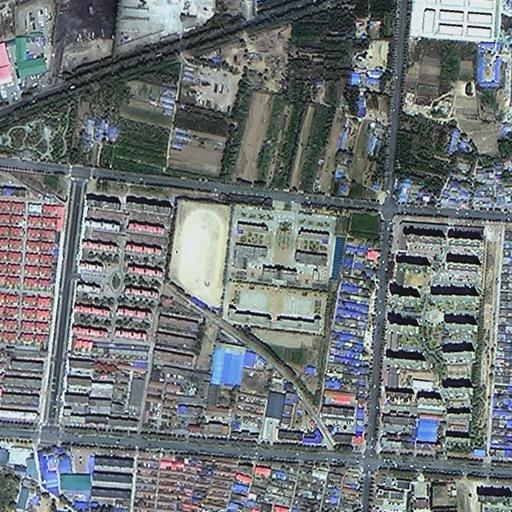school: (164, 193, 339, 332)
